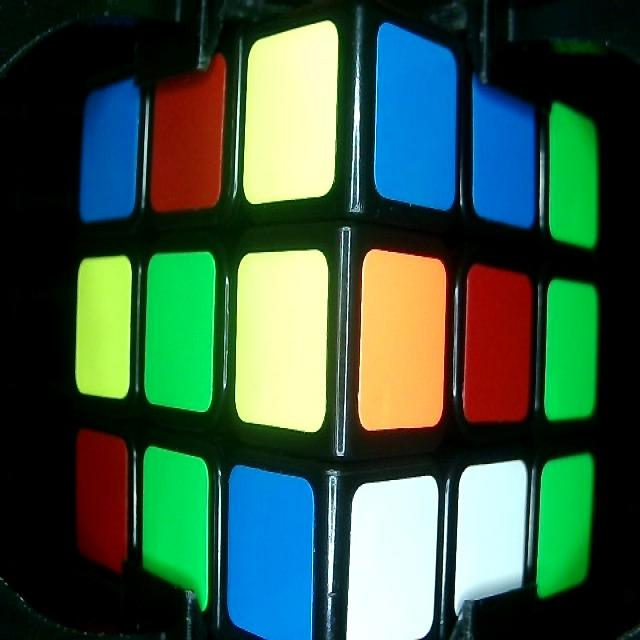b: (232, 465, 315, 635), (380, 26, 456, 207), (470, 69, 538, 223), (78, 77, 140, 219)
g: (141, 446, 209, 608), (148, 255, 215, 404), (540, 458, 594, 589), (546, 277, 596, 418), (553, 103, 598, 240)
o: (247, 24, 335, 203), (240, 253, 325, 424), (366, 250, 442, 422)
r: (154, 61, 224, 208), (469, 265, 530, 419), (75, 431, 128, 564)
w: (353, 477, 437, 640), (460, 463, 528, 610)
y: (77, 260, 132, 396)
